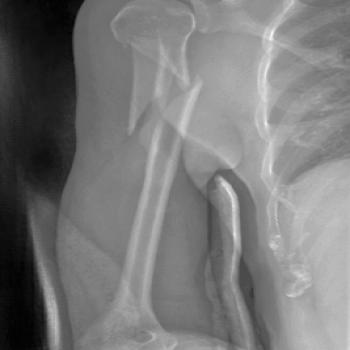Fracture: (104, 68, 211, 152)
